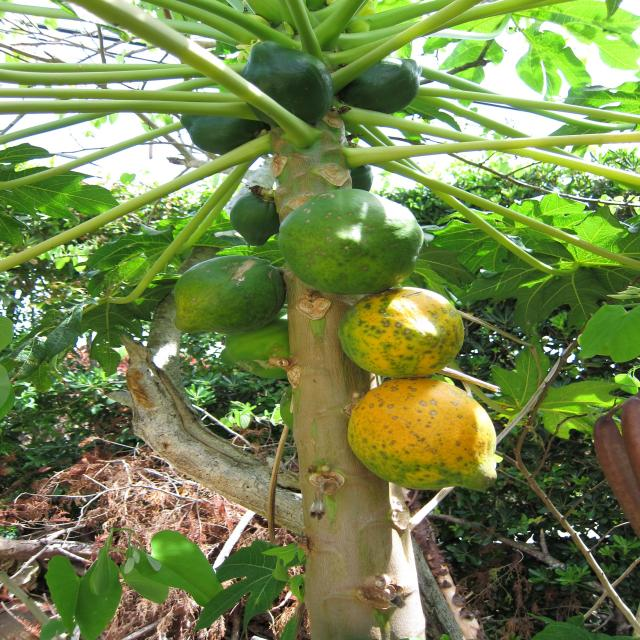Pepaya rippen: (352, 382, 512, 499), (328, 281, 470, 380)
Pepaya unrippen: (266, 184, 423, 288), (157, 248, 292, 338), (238, 35, 348, 127), (354, 56, 432, 118), (211, 332, 292, 391), (220, 183, 283, 246)
